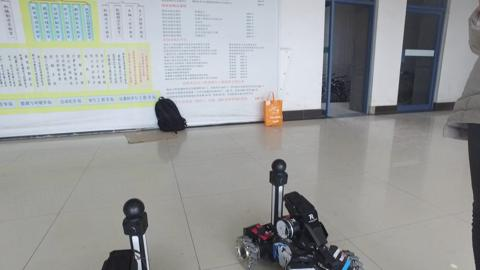bag: (150, 92, 193, 136), (258, 89, 290, 130)
chariot: (229, 151, 366, 270)
